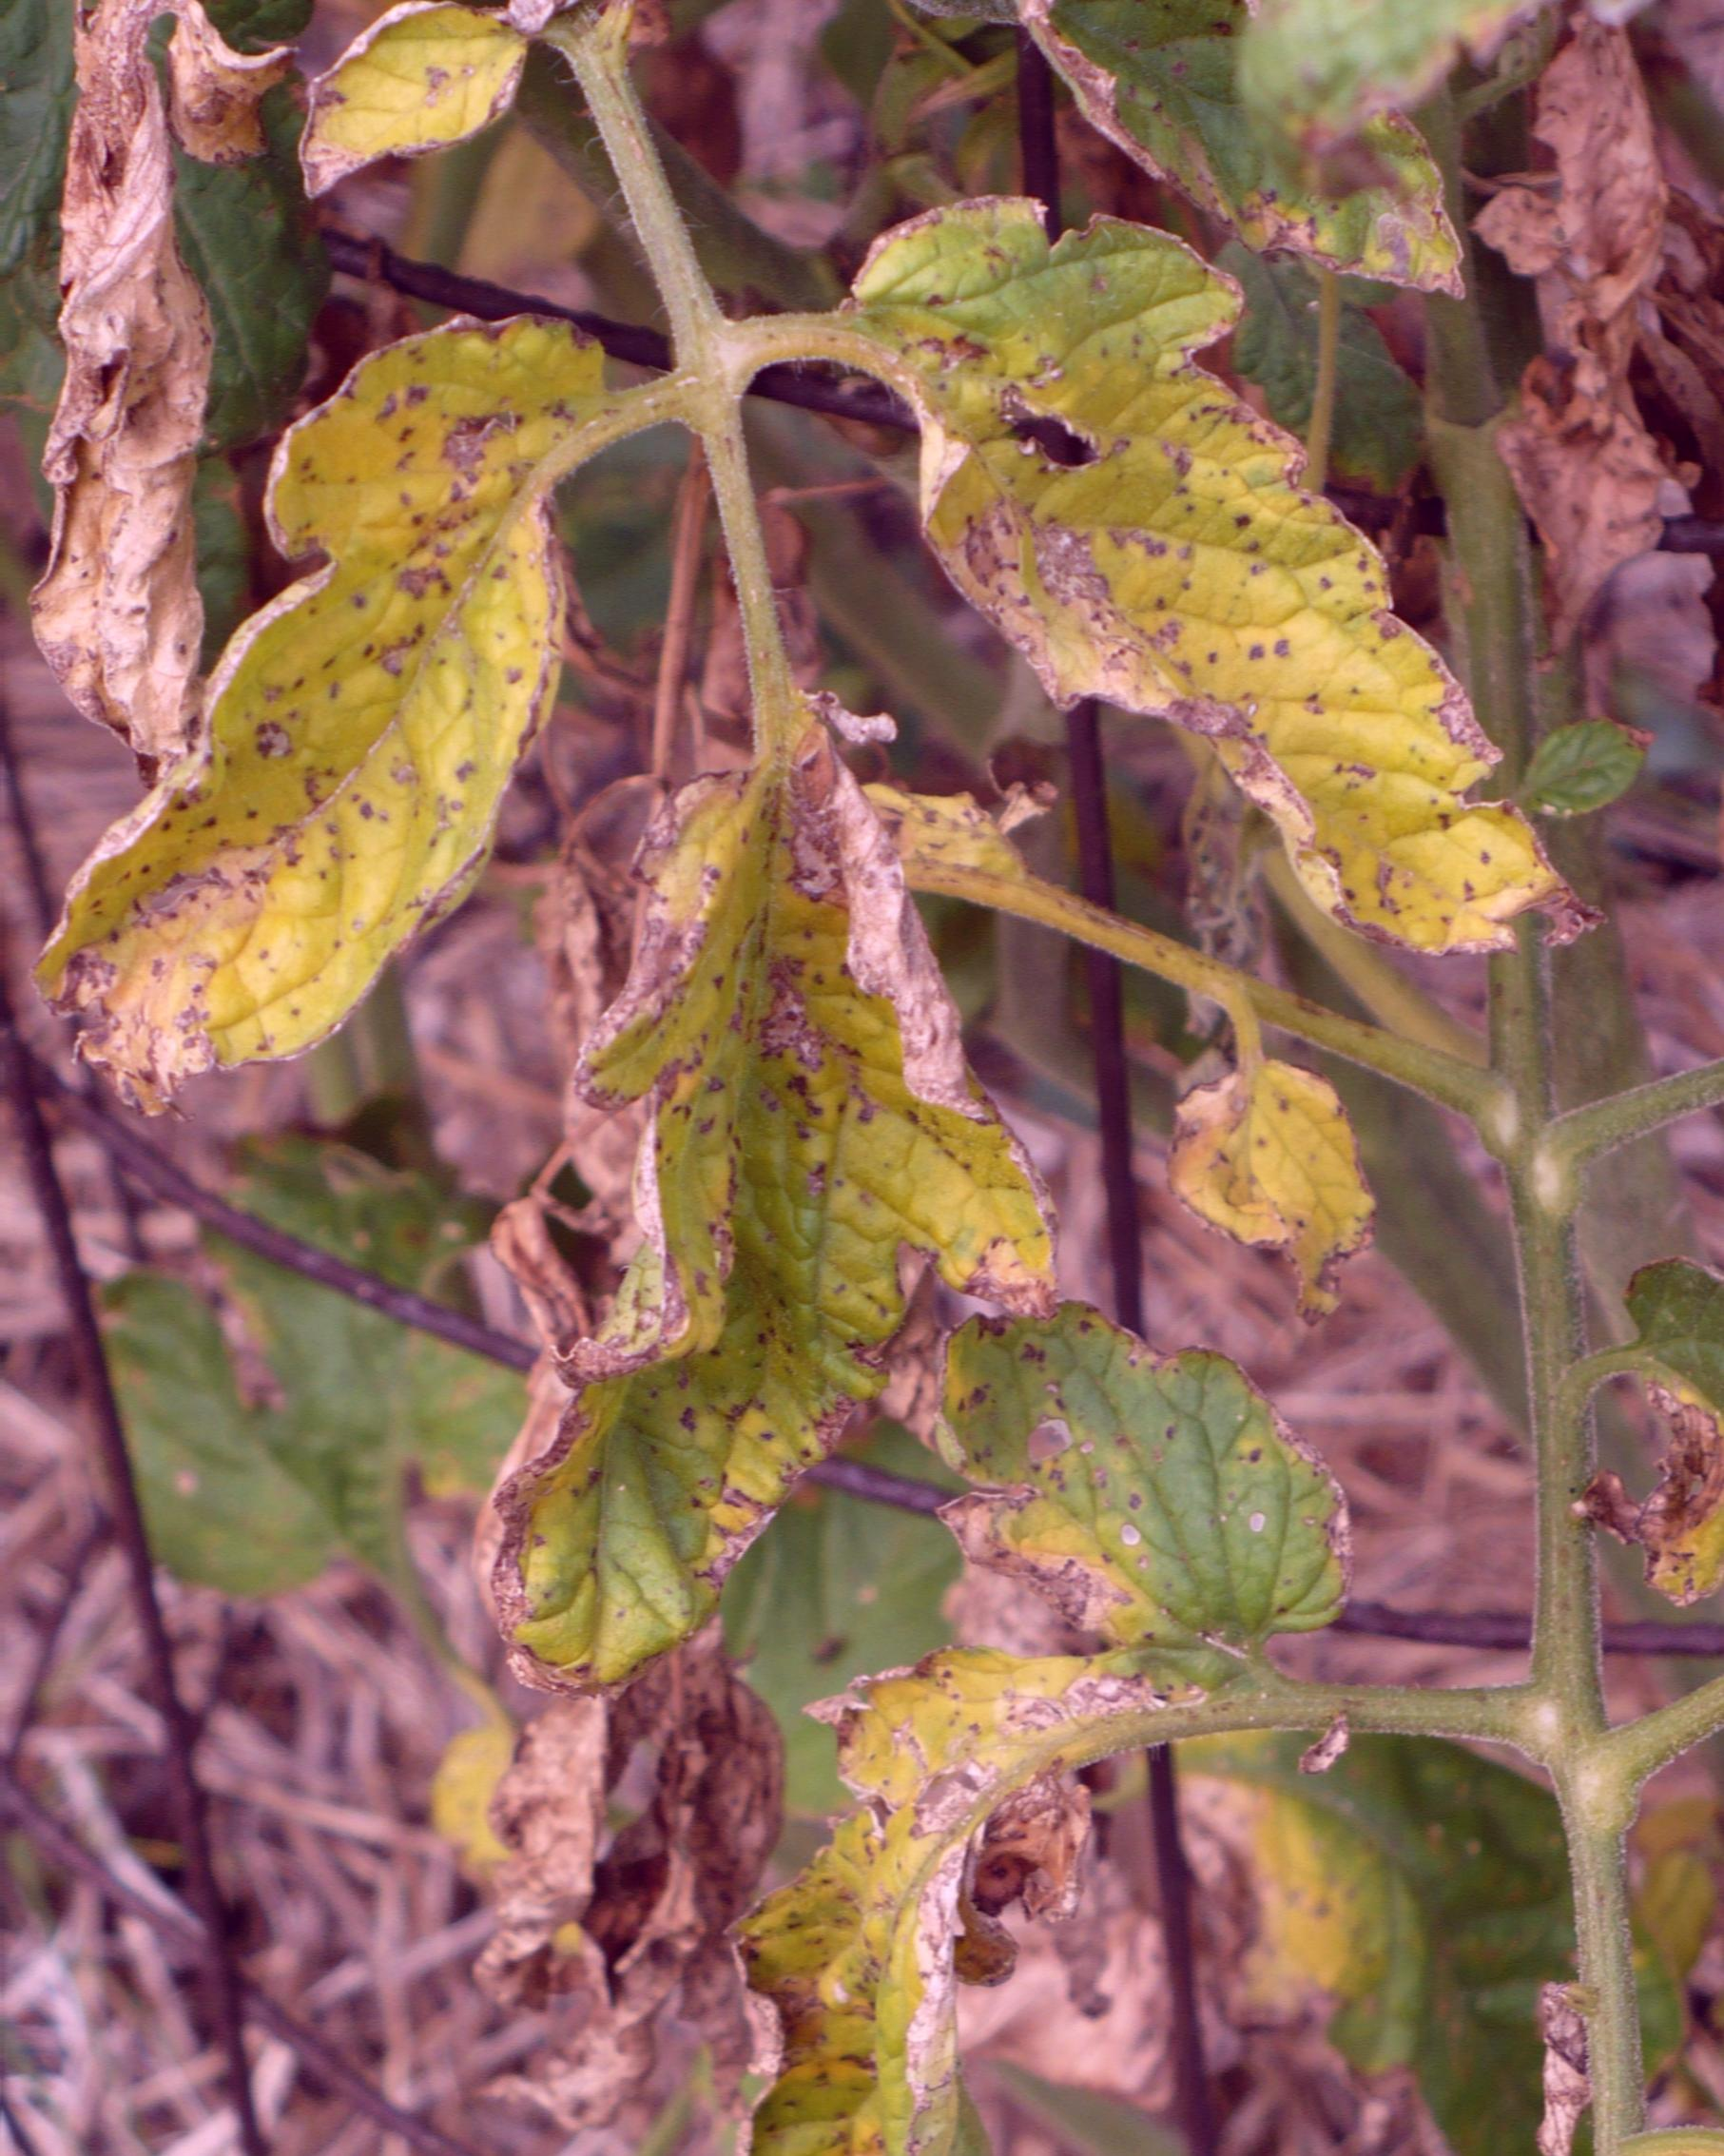Tomato Septoria leaf spot: (790, 178, 1625, 1006), (716, 1351, 1458, 2156), (449, 754, 1073, 1665), (99, 297, 660, 1099)
